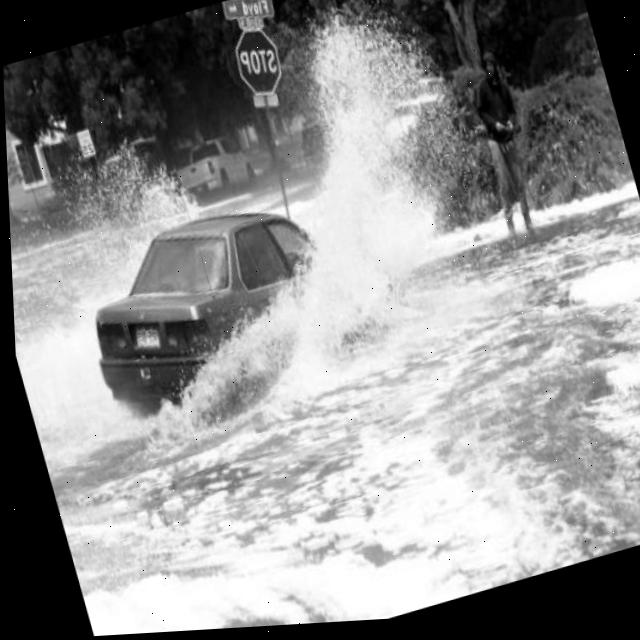civilian: (434, 21, 576, 265)
